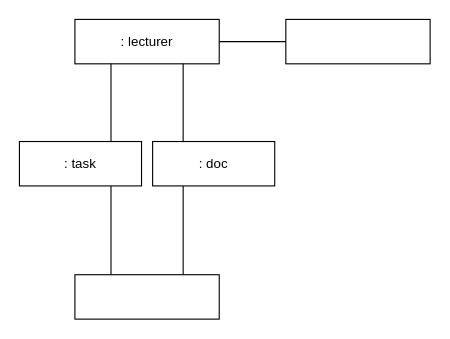
Image size: 450x339. Some labels were removed from this diagram. The shapes that lost their labels are listed below. From the top down, each one's box as (x1, y1, x2, y2) in pixels, then its label:
(285, 18, 430, 64): : deanate
(74, 274, 219, 319): : group
